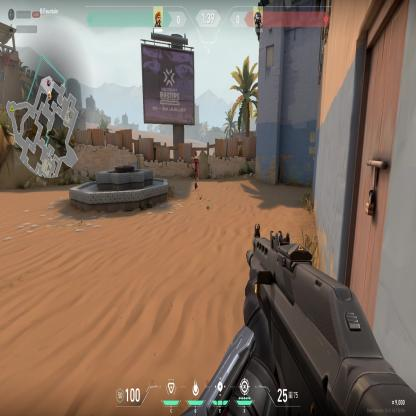enemy: (190, 148, 200, 190)
